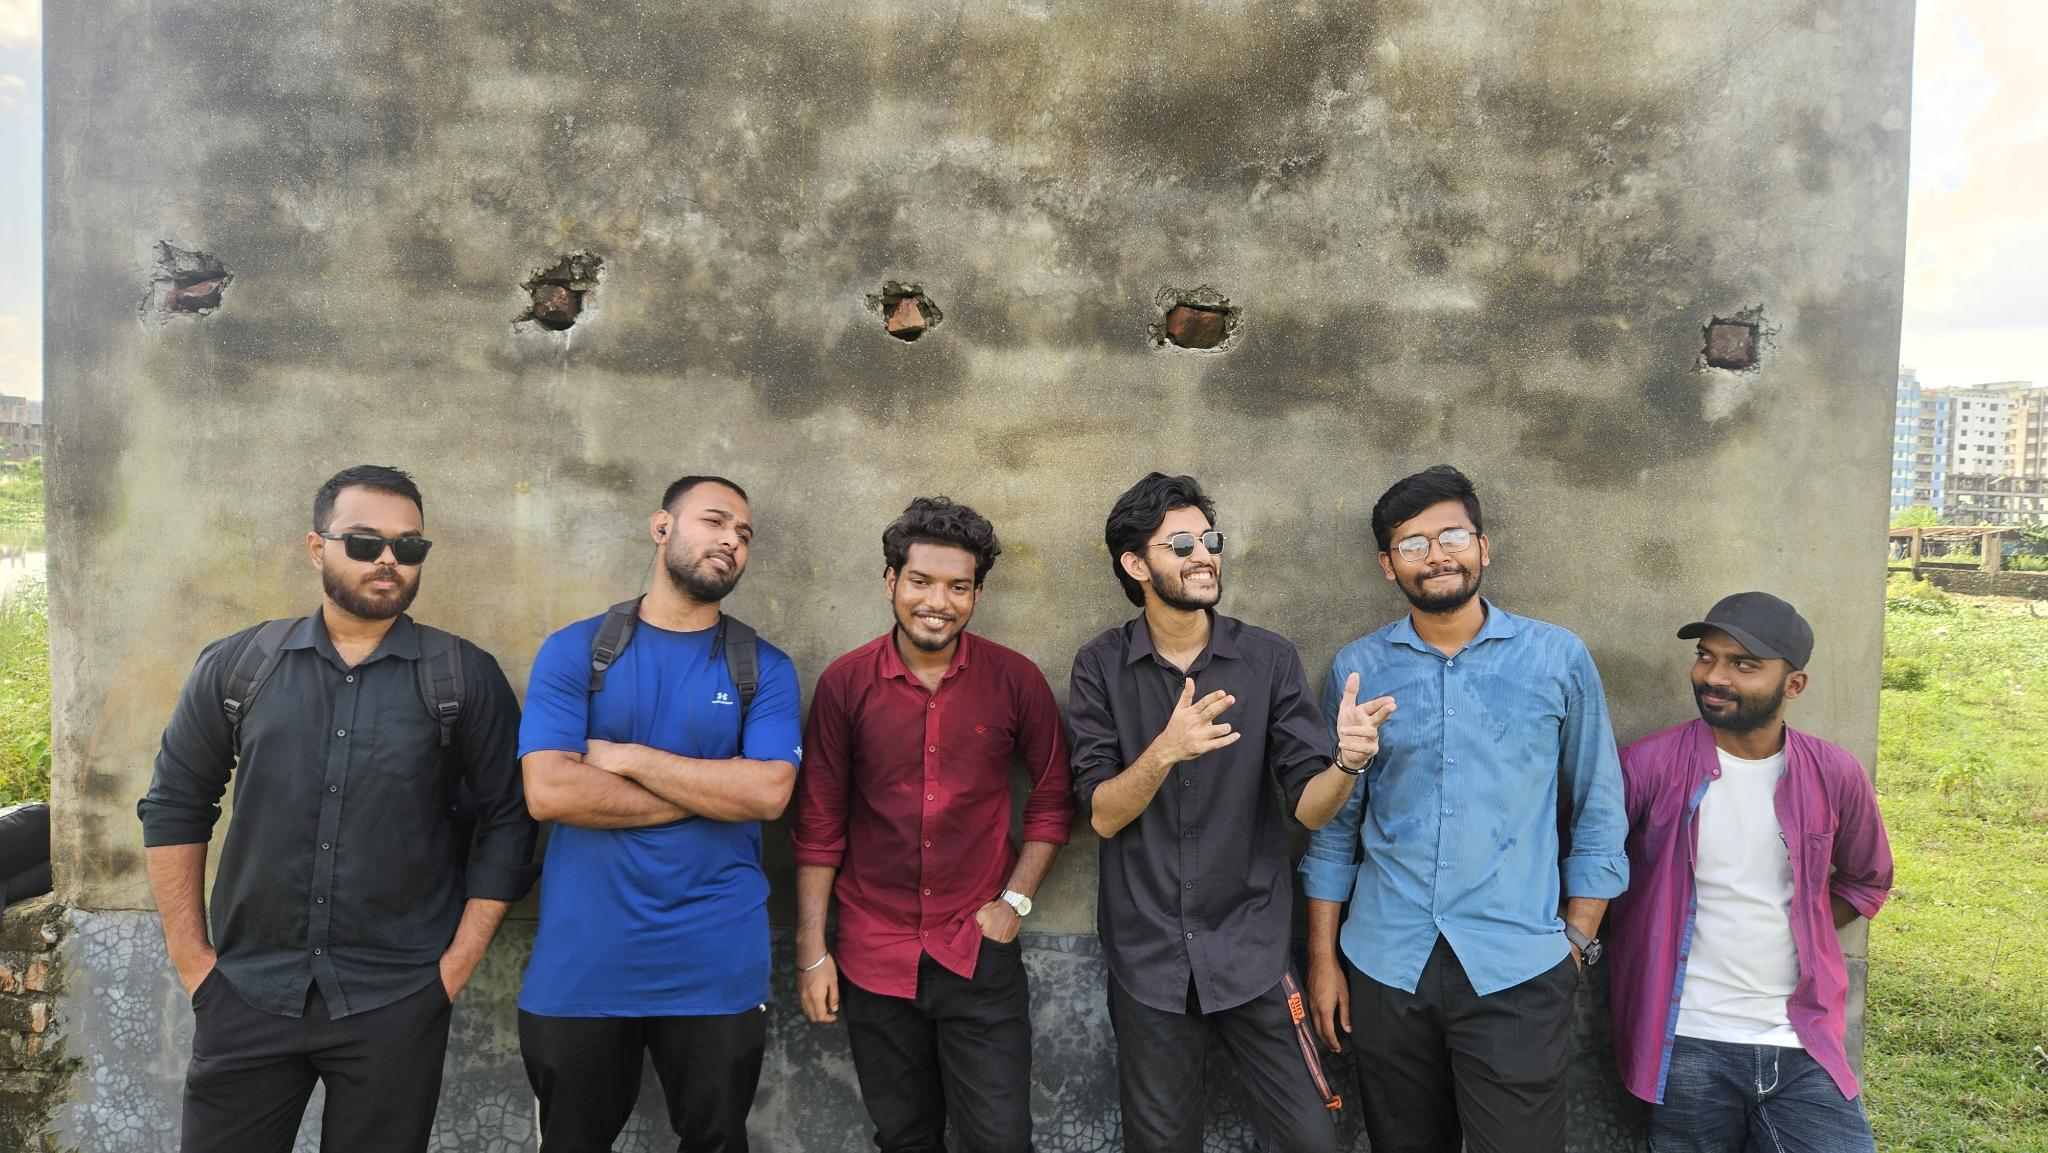nonSmoker: (138, 465, 533, 1153), (1063, 465, 1405, 1153), (1317, 465, 1632, 1153), (525, 470, 807, 1153), (793, 492, 1066, 1153), (1625, 584, 1896, 1153)
